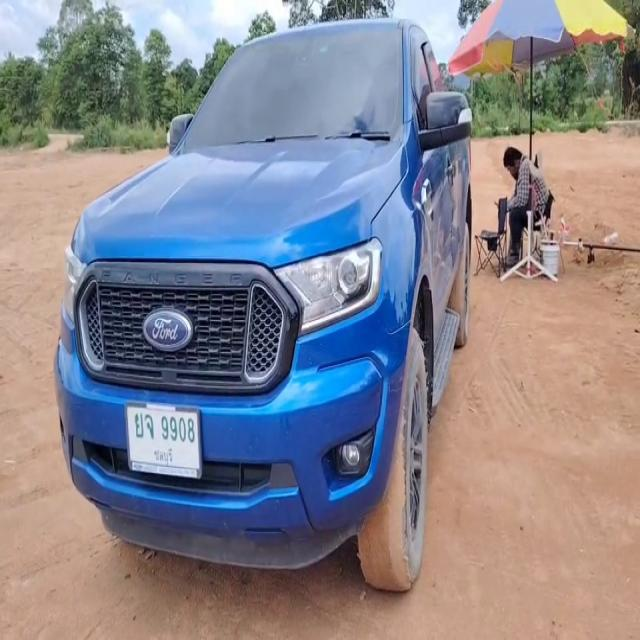Digit: (157, 410, 196, 445)
Licenseplate: (124, 402, 204, 482)
Provincename: (152, 445, 175, 466)
Thaichar: (132, 408, 155, 442)
